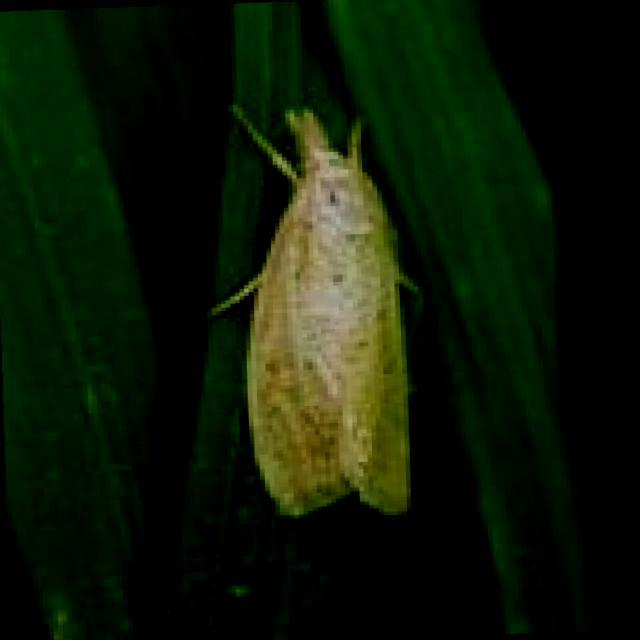stem borer: (212, 106, 414, 515)
